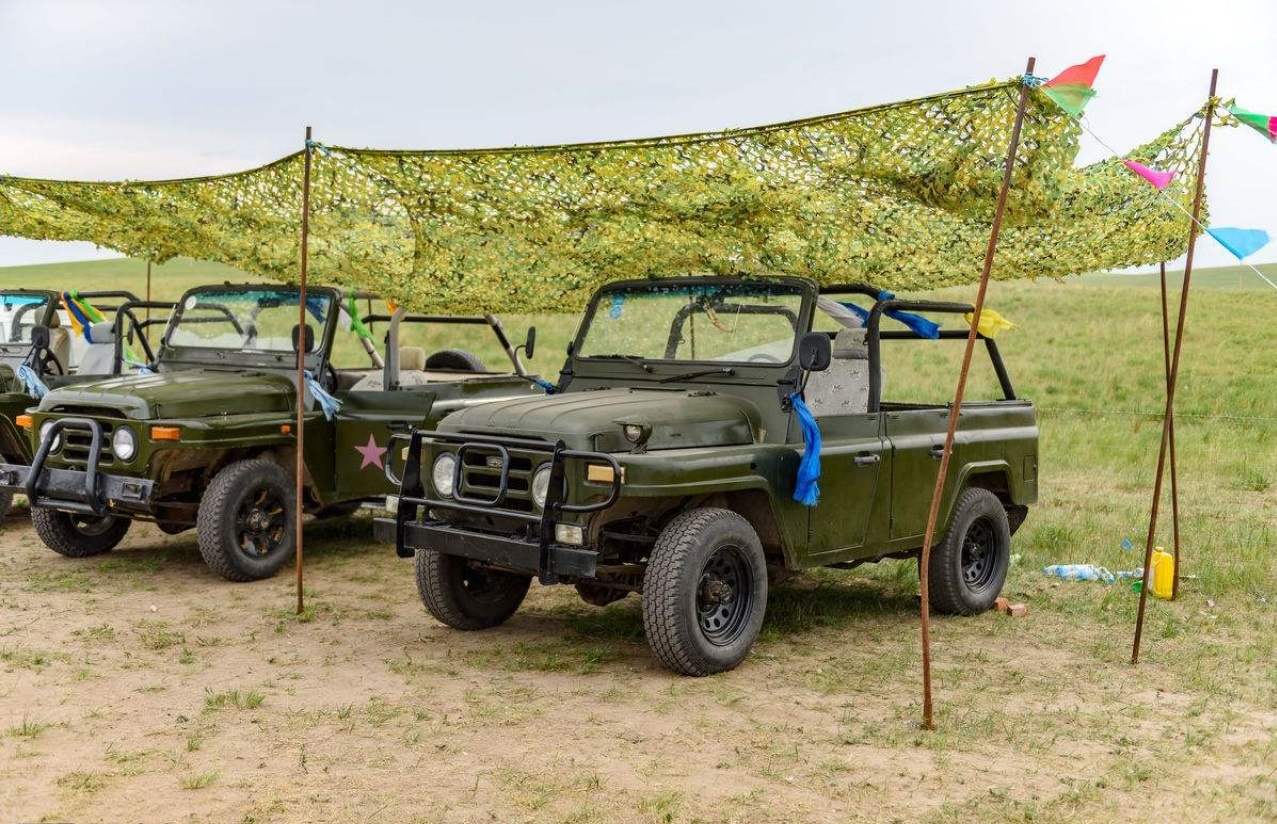jeep: (435, 236, 1039, 665), (43, 274, 510, 566)
